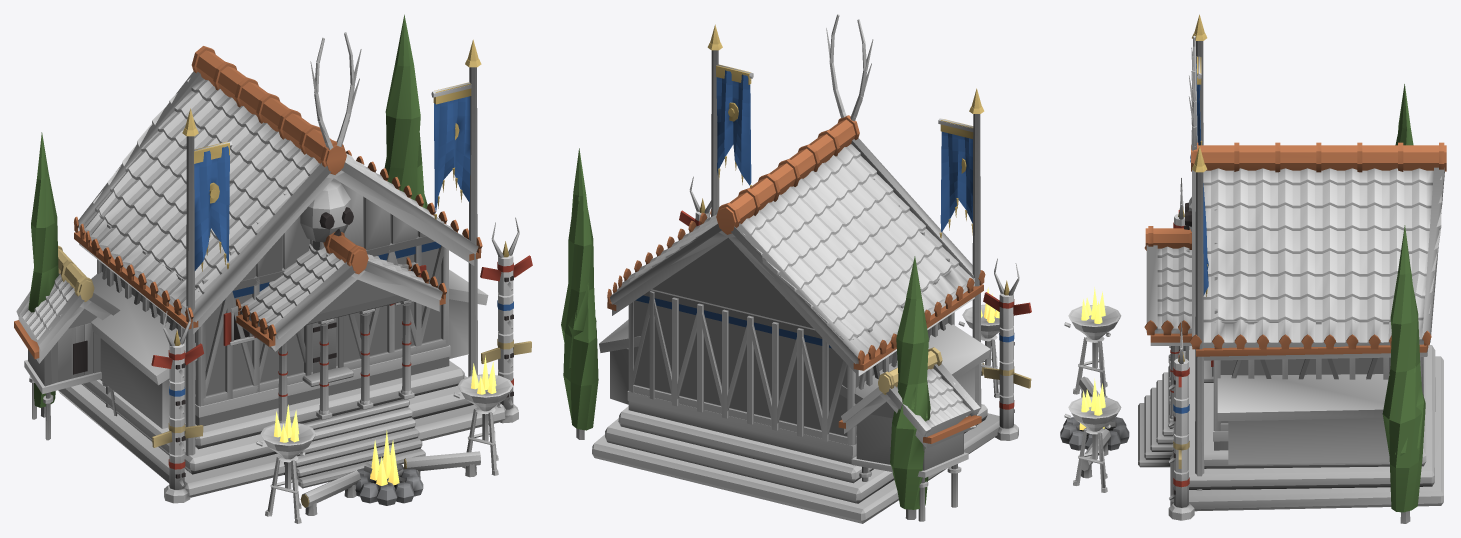
Rendered from arcadia-hall-l3.glb.
The picture shows the model from 3 angles, left to right: view 1: azimuth 30°, elevation 25°; view 2: azimuth 150°, elevation 25°; view 3: azimuth 270°, elevation 25°; orthographic projection. The views are drawn at different scales.
Parts seen in each view (by area): view 1: arcadia-hall-l3; view 2: arcadia-hall-l3; view 3: arcadia-hall-l3.
Boxes of the visible parts, x1,y1,x2,y2 form: arcadia-hall-l3: [14, 14, 532, 523]; arcadia-hall-l3: [561, 14, 1031, 523]; arcadia-hall-l3: [1060, 14, 1446, 523].
Size of the model in its own units: 1.3 by 1.23 by 1.08.
